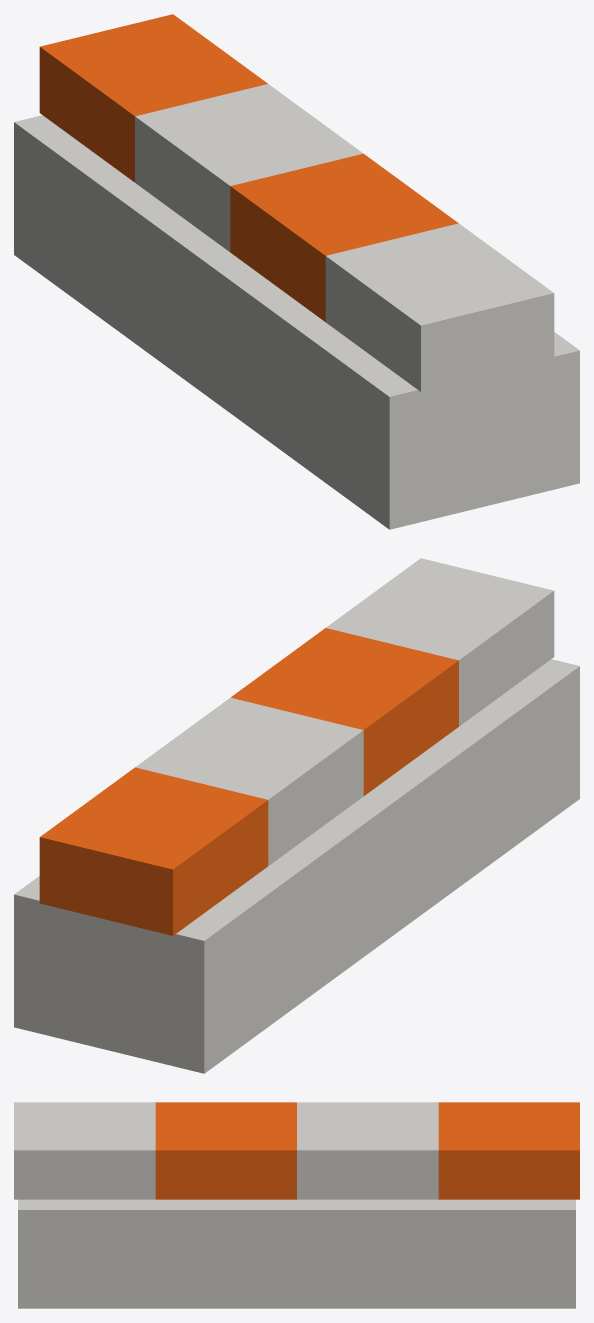
Rendered from CoastalBarrier.fbx.
3 views of the same model, one above another, from view 1: azimuth 30°, elevation 25°; view 2: azimuth 150°, elevation 25°; view 3: azimuth 270°, elevation 25° (orthographic). The views are drawn at different scales.
Visible parts, largest first — view 1: CoastalBarrierMesh; view 2: CoastalBarrierMesh; view 3: CoastalBarrierMesh.
Boxes of the visible parts, x1,y1,x2,y2 form: CoastalBarrierMesh: (14,14,579,529); CoastalBarrierMesh: (14,558,579,1073); CoastalBarrierMesh: (14,1102,579,1308).
Size of the model in its own units: 0.6 by 0.6 by 2.08.
